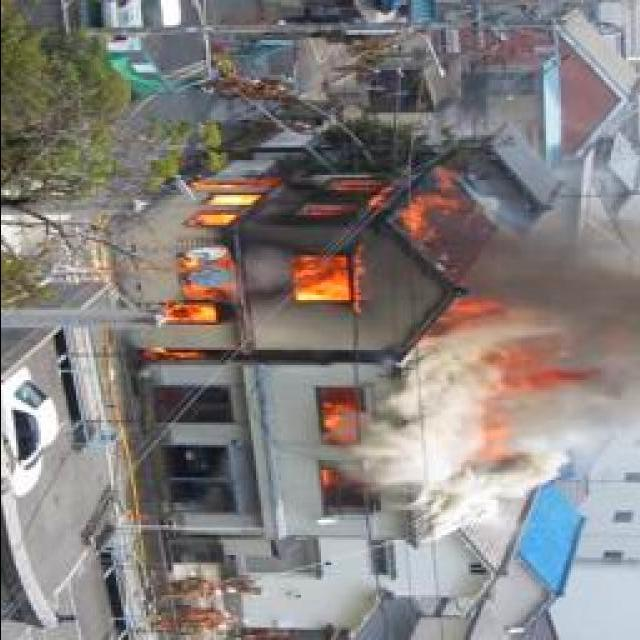Fire: (160, 164, 465, 328), (482, 357, 556, 455), (316, 396, 356, 440)
